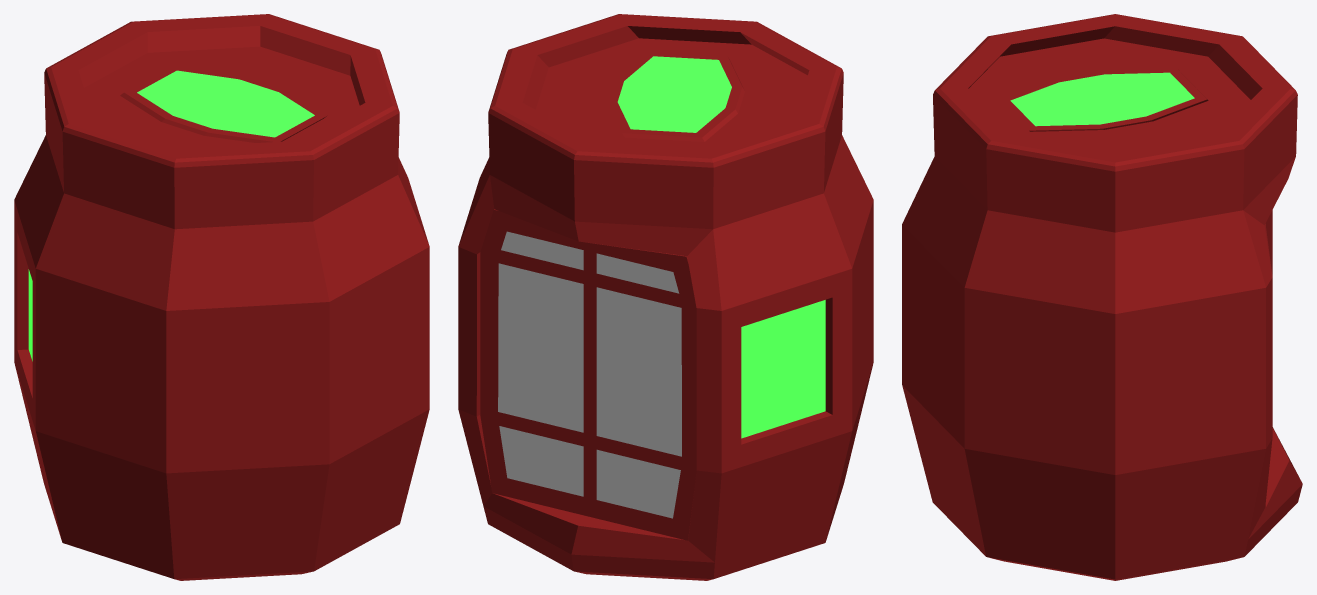
File: cargocontainer-red.glb
3 renders of one model, left to right at view 1: azimuth 30°, elevation 25°; view 2: azimuth 150°, elevation 25°; view 3: azimuth 270°, elevation 25°, orthographic.
Parts seen in each view (by area): view 1: cilindro, pannello; view 2: cilindro, cilindro.001, oblo, pannello; view 3: cilindro, pannello.
Boxes of the visible parts, left/top/right/bottom form: cilindro: left=14, top=14, right=429, bottom=580; pannello: left=137, top=70, right=314, bottom=137; cilindro: left=458, top=14, right=873, bottom=580; cilindro.001: left=498, top=231, right=681, bottom=518; oblo: left=741, top=300, right=825, bottom=438; pannello: left=617, top=56, right=731, bottom=132; cilindro: left=902, top=14, right=1302, bottom=580; pannello: left=1010, top=72, right=1194, bottom=126.
Bounding box in the file's own units: 2.33 × 2.57 × 2.19.
